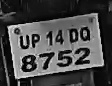1: (46, 30, 54, 46)
2: (74, 47, 91, 66)
4: (56, 30, 64, 47)
5: (57, 49, 72, 70)
7: (37, 51, 53, 70)
8: (17, 52, 40, 74)
D: (68, 29, 78, 45)
P: (30, 33, 43, 48)
Q: (78, 24, 93, 45)
U: (19, 34, 31, 51)
